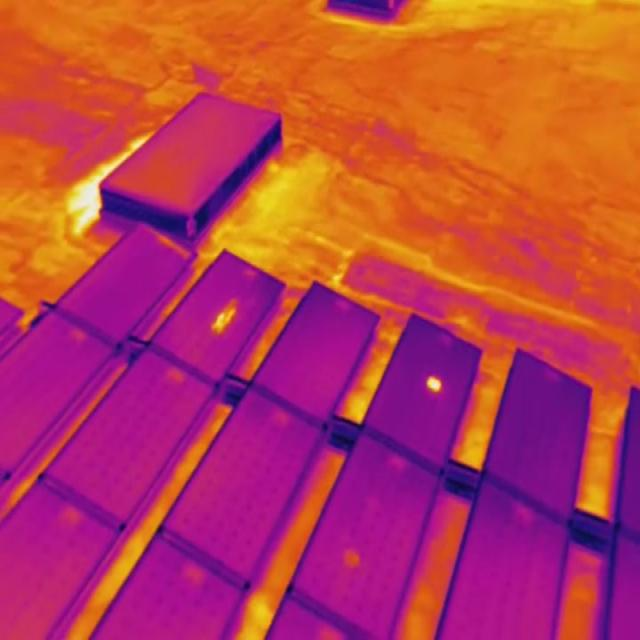Orange-Spots: (212, 300, 236, 334), (344, 550, 362, 570), (428, 369, 443, 393)
